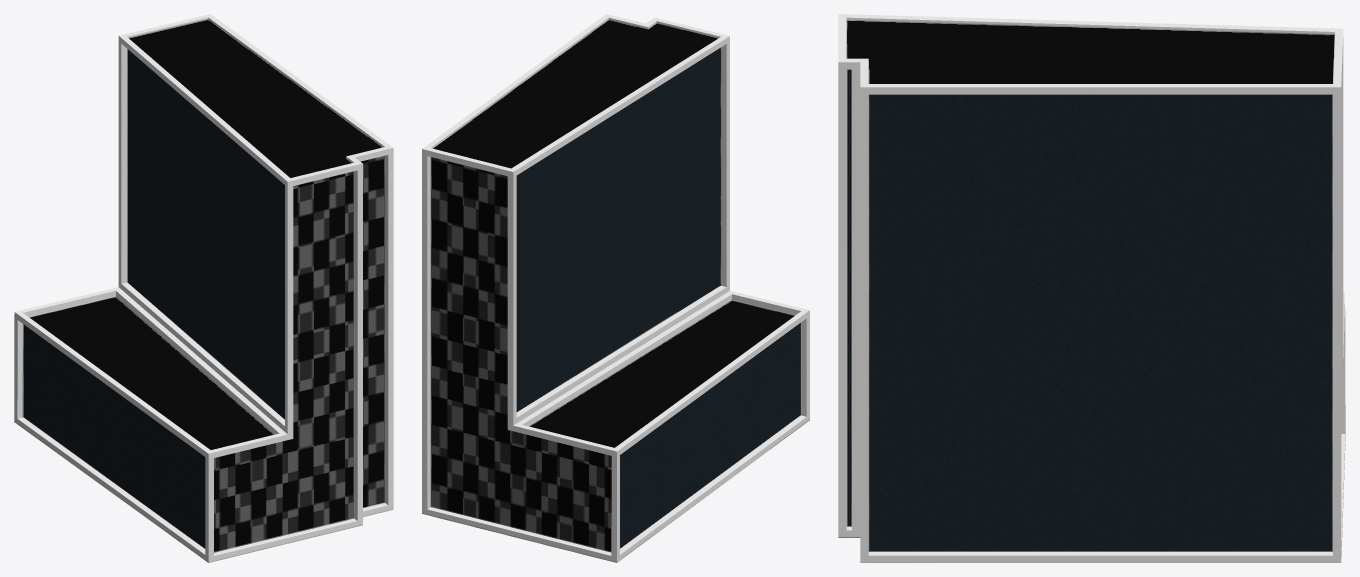
Rendered from block2_b1_MESH.fbx.
3 renders of one model, left to right at view 1: azimuth 30°, elevation 25°; view 2: azimuth 150°, elevation 25°; view 3: azimuth 270°, elevation 25°, orthographic. The views are drawn at different scales.
Parts seen in each view (by area): view 1: block2_b1_MESH; view 2: block2_b1_MESH; view 3: block2_b1_MESH.
Part boxes in pixels (x1,y1,x2,y2): block2_b1_MESH: [14, 14, 393, 562]; block2_b1_MESH: [422, 14, 809, 562]; block2_b1_MESH: [838, 14, 1345, 562].
Size of the model in its own units: 2926 by 5018 by 5192.
